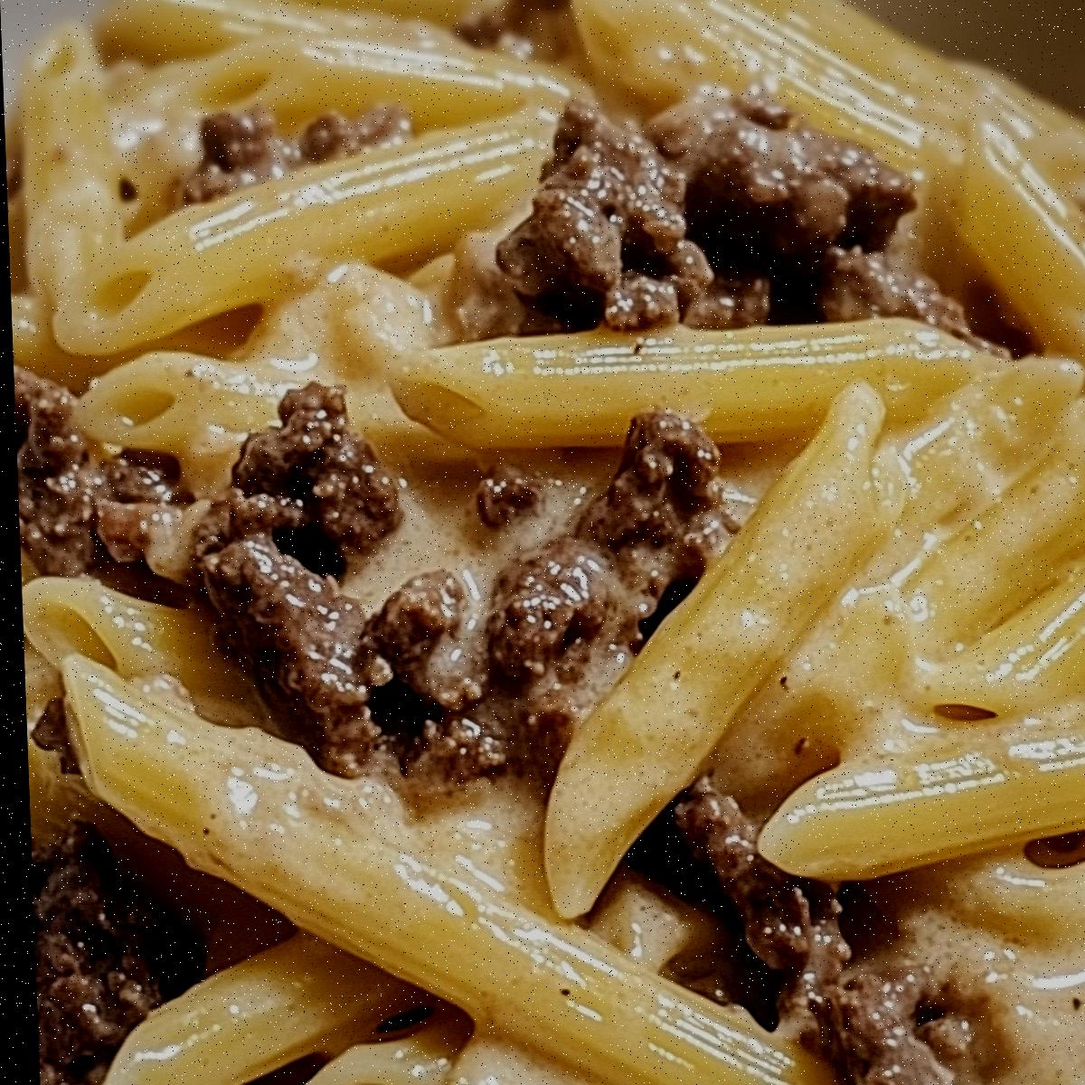pasta: (5, 0, 1084, 1084)
